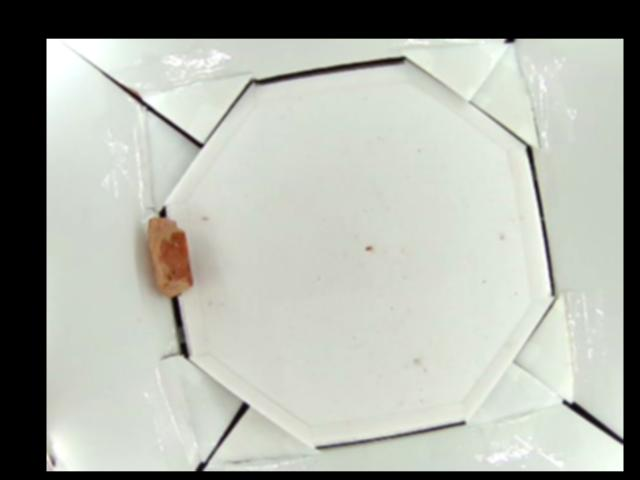Brisk: (146, 217, 196, 299)
